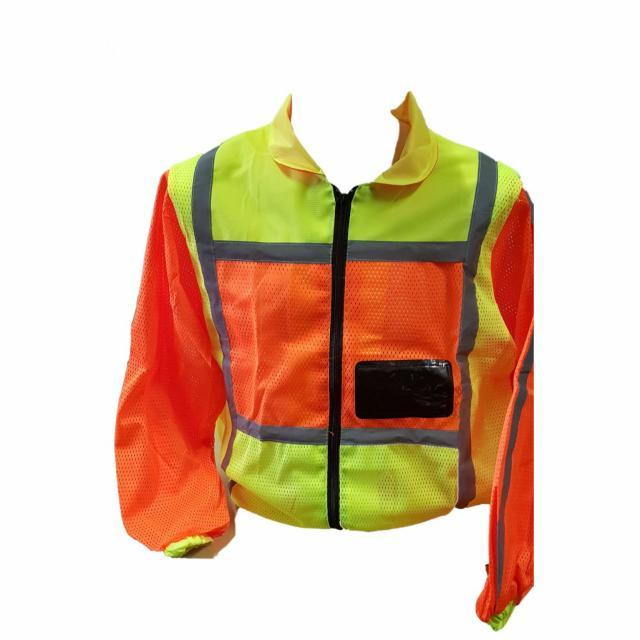reflective_jacket: (112, 104, 548, 548)
